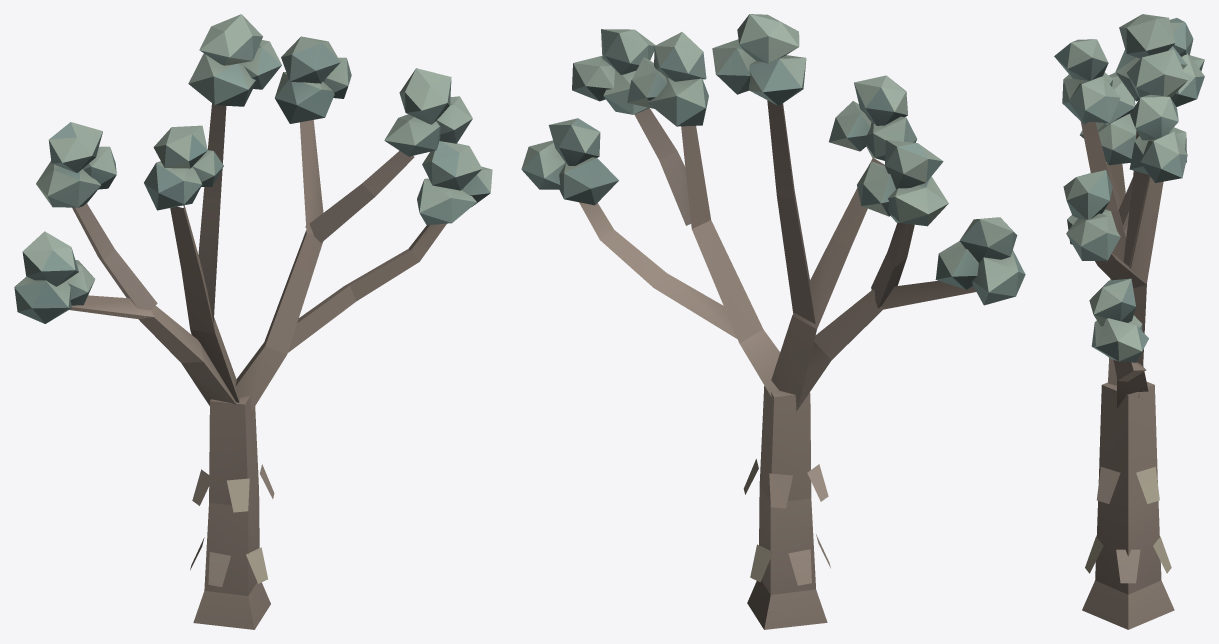
The model's file is joshua.lod1.glb.
The picture shows the model from 3 angles, left to right: view 1: azimuth 30°, elevation 25°; view 2: azimuth 150°, elevation 25°; view 3: azimuth 270°, elevation 25°; orthographic projection. The views are drawn at different scales.
Size of the model in its own units: 5.13 by 6.02 by 1.37.
